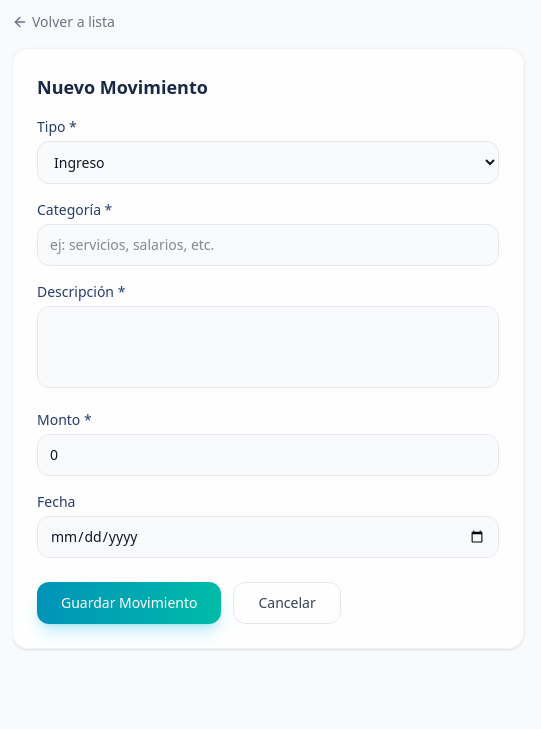
Test: MovimientosCrear › shows validation error for short categoria
The image size is (541, 729).
Step 1. Type "a" into the field labelled "Categoría" → (268, 245), box 37,224 -> 499,266
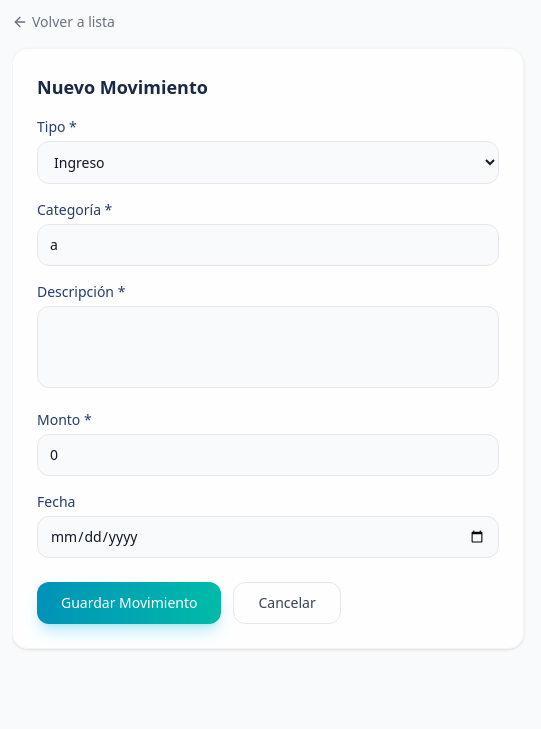
Step 2. Click the button "Guardar Movimiento" → (129, 603), box 37,582 -> 222,624
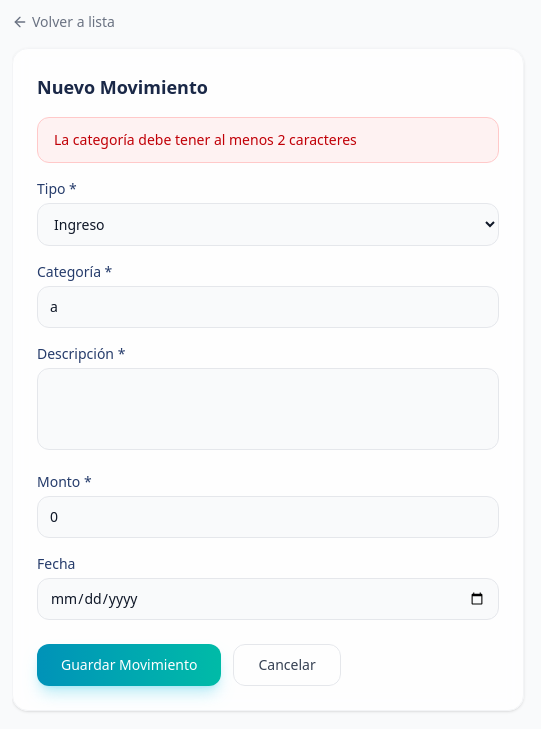
Check: the text "La categoría debe tener al menos 2 caracteres" is shown, box 37,117 -> 499,163
